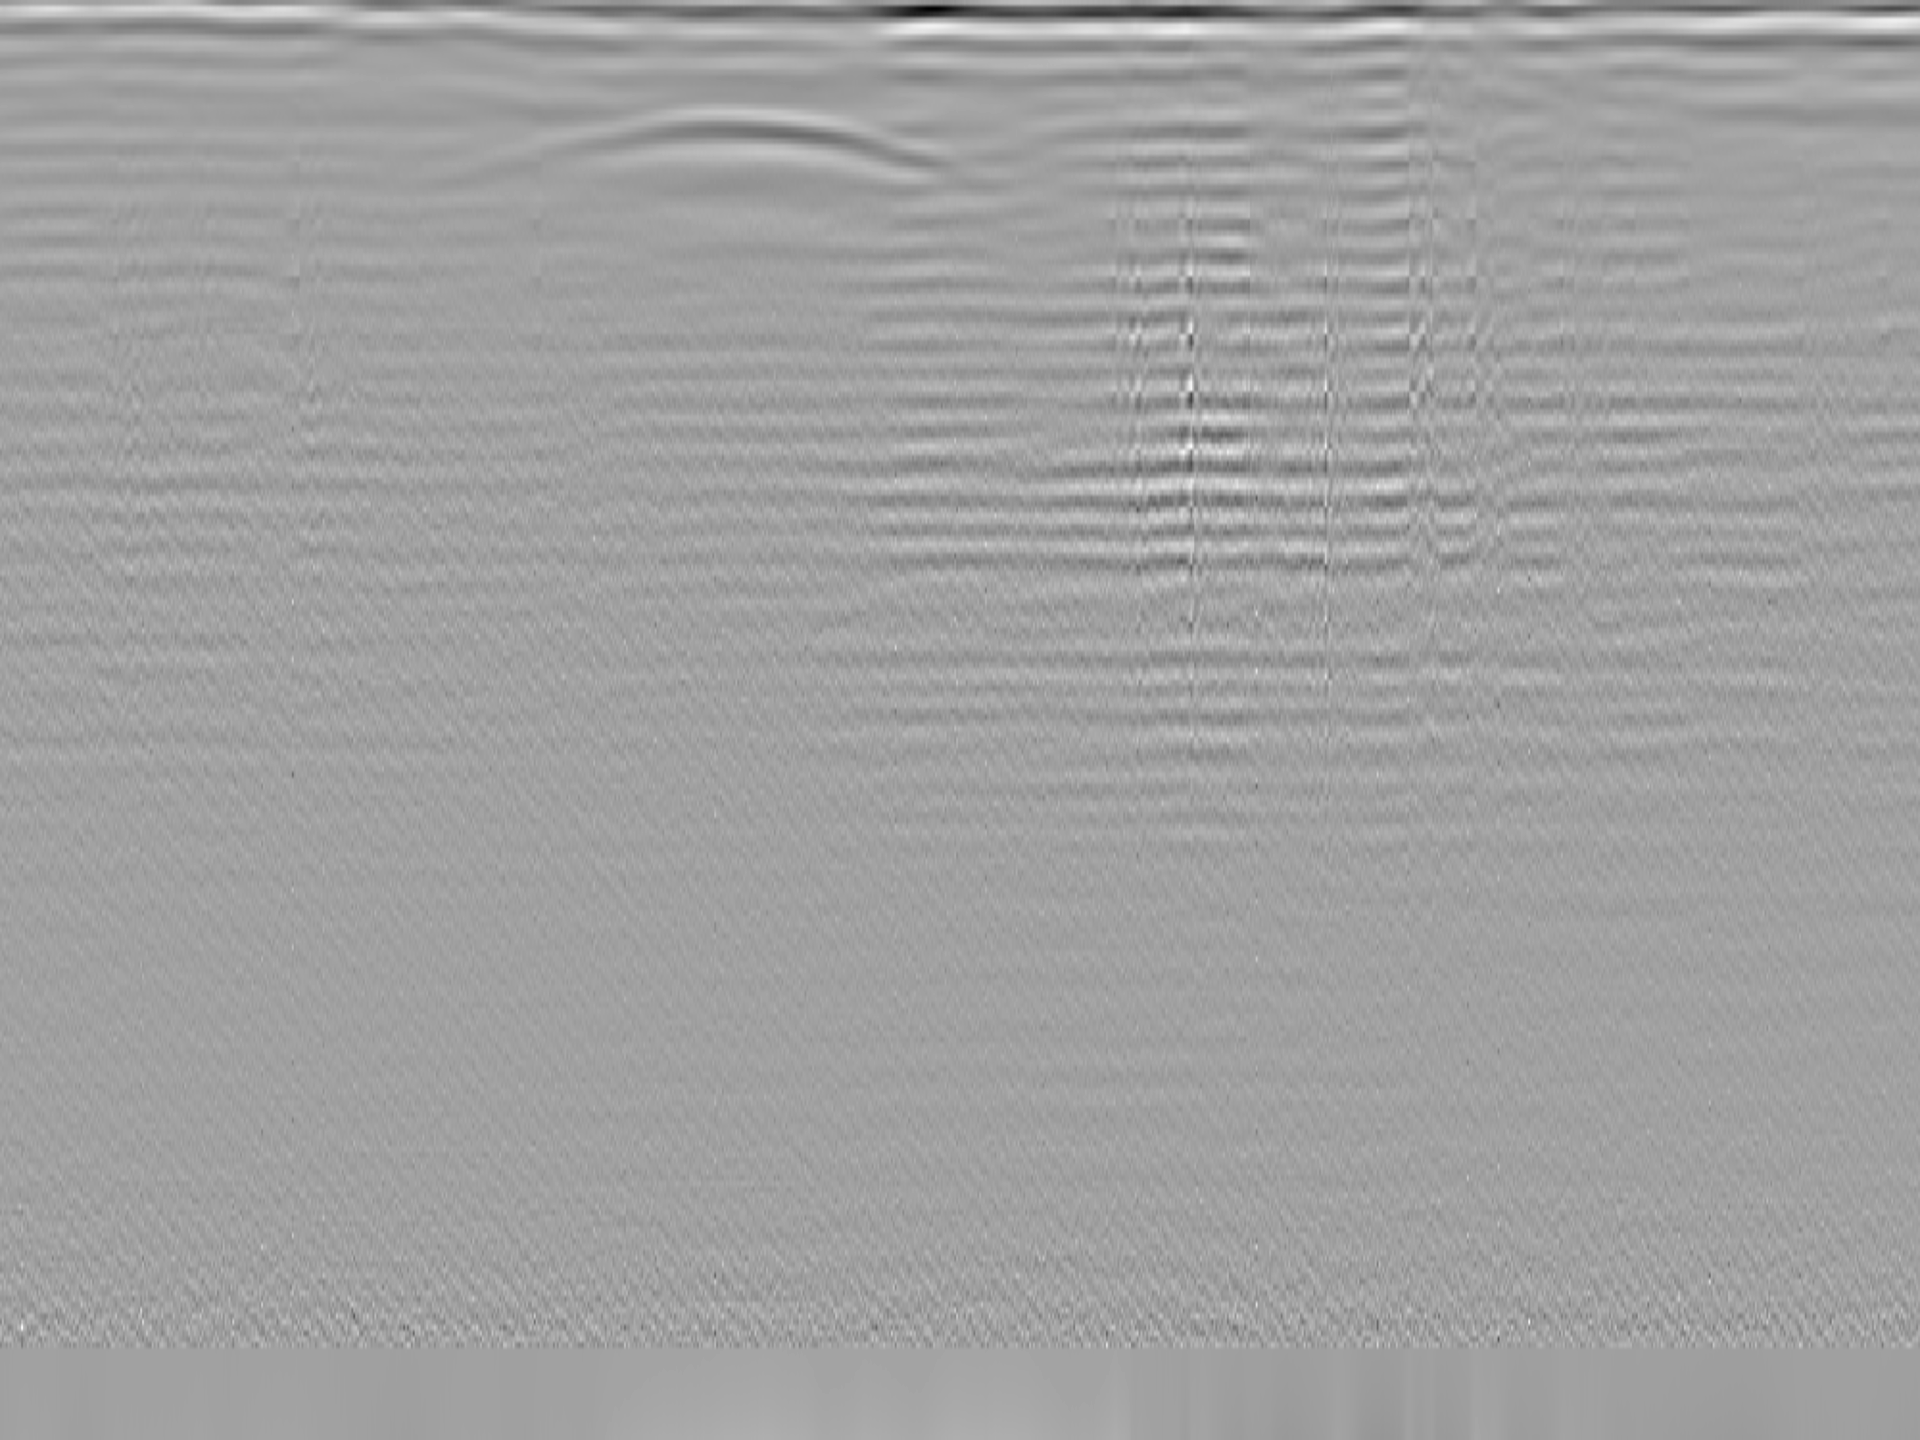Tunnel: (410, 104, 1007, 185)
